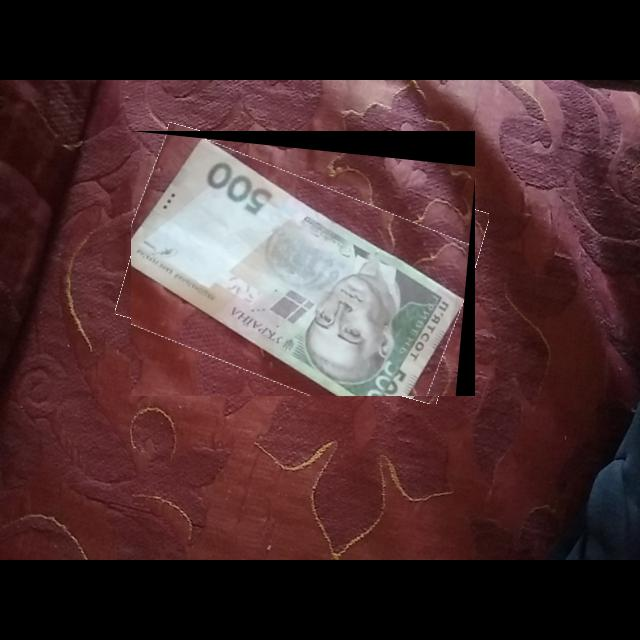500uah: (131, 137, 466, 397)
